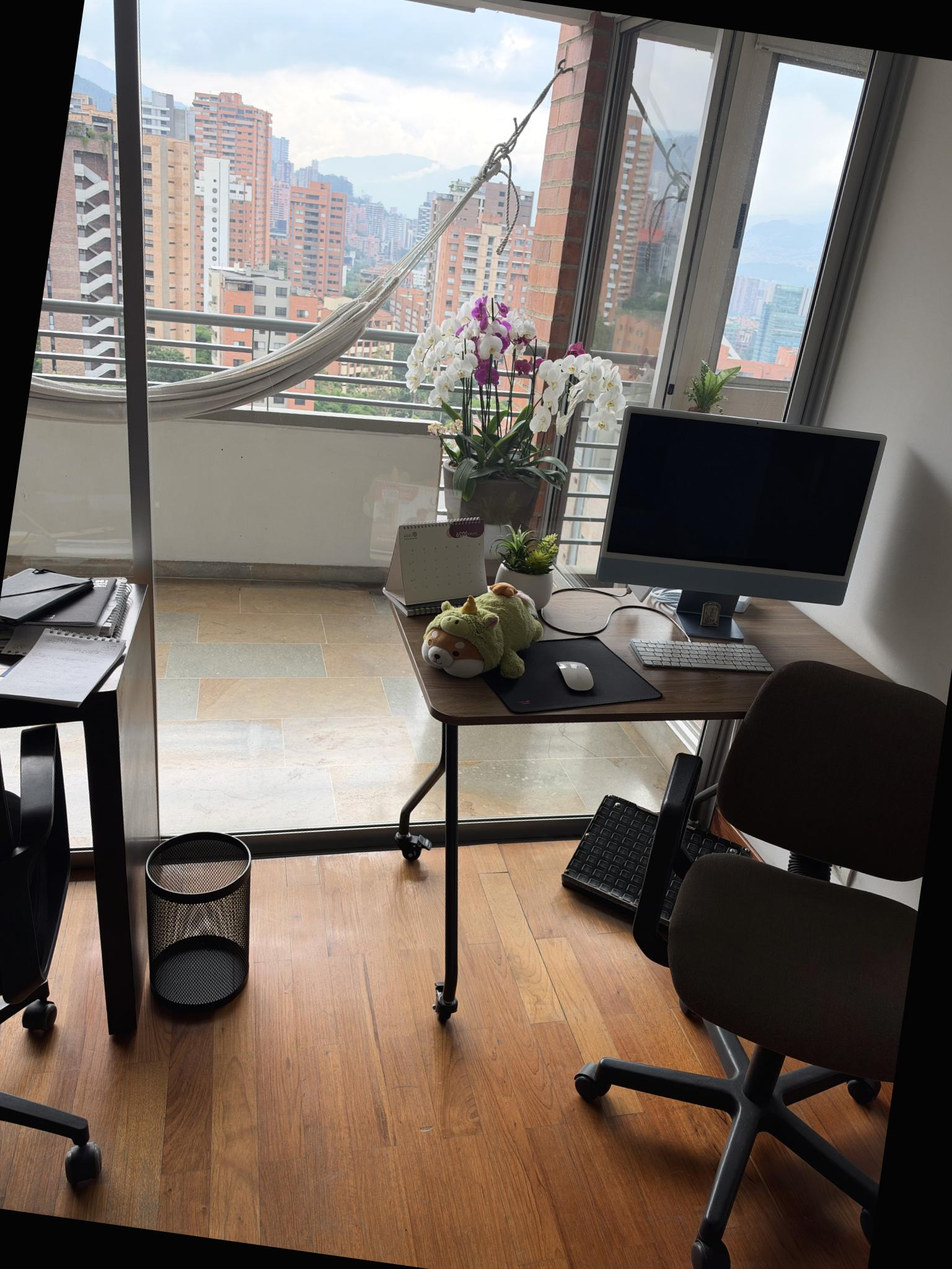peluche_martin: (417, 571, 551, 690)
